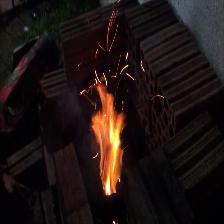fire: (68, 66, 148, 202)
